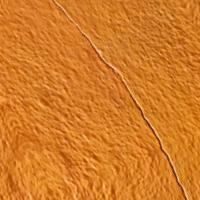crack: (80, 34, 186, 191)
